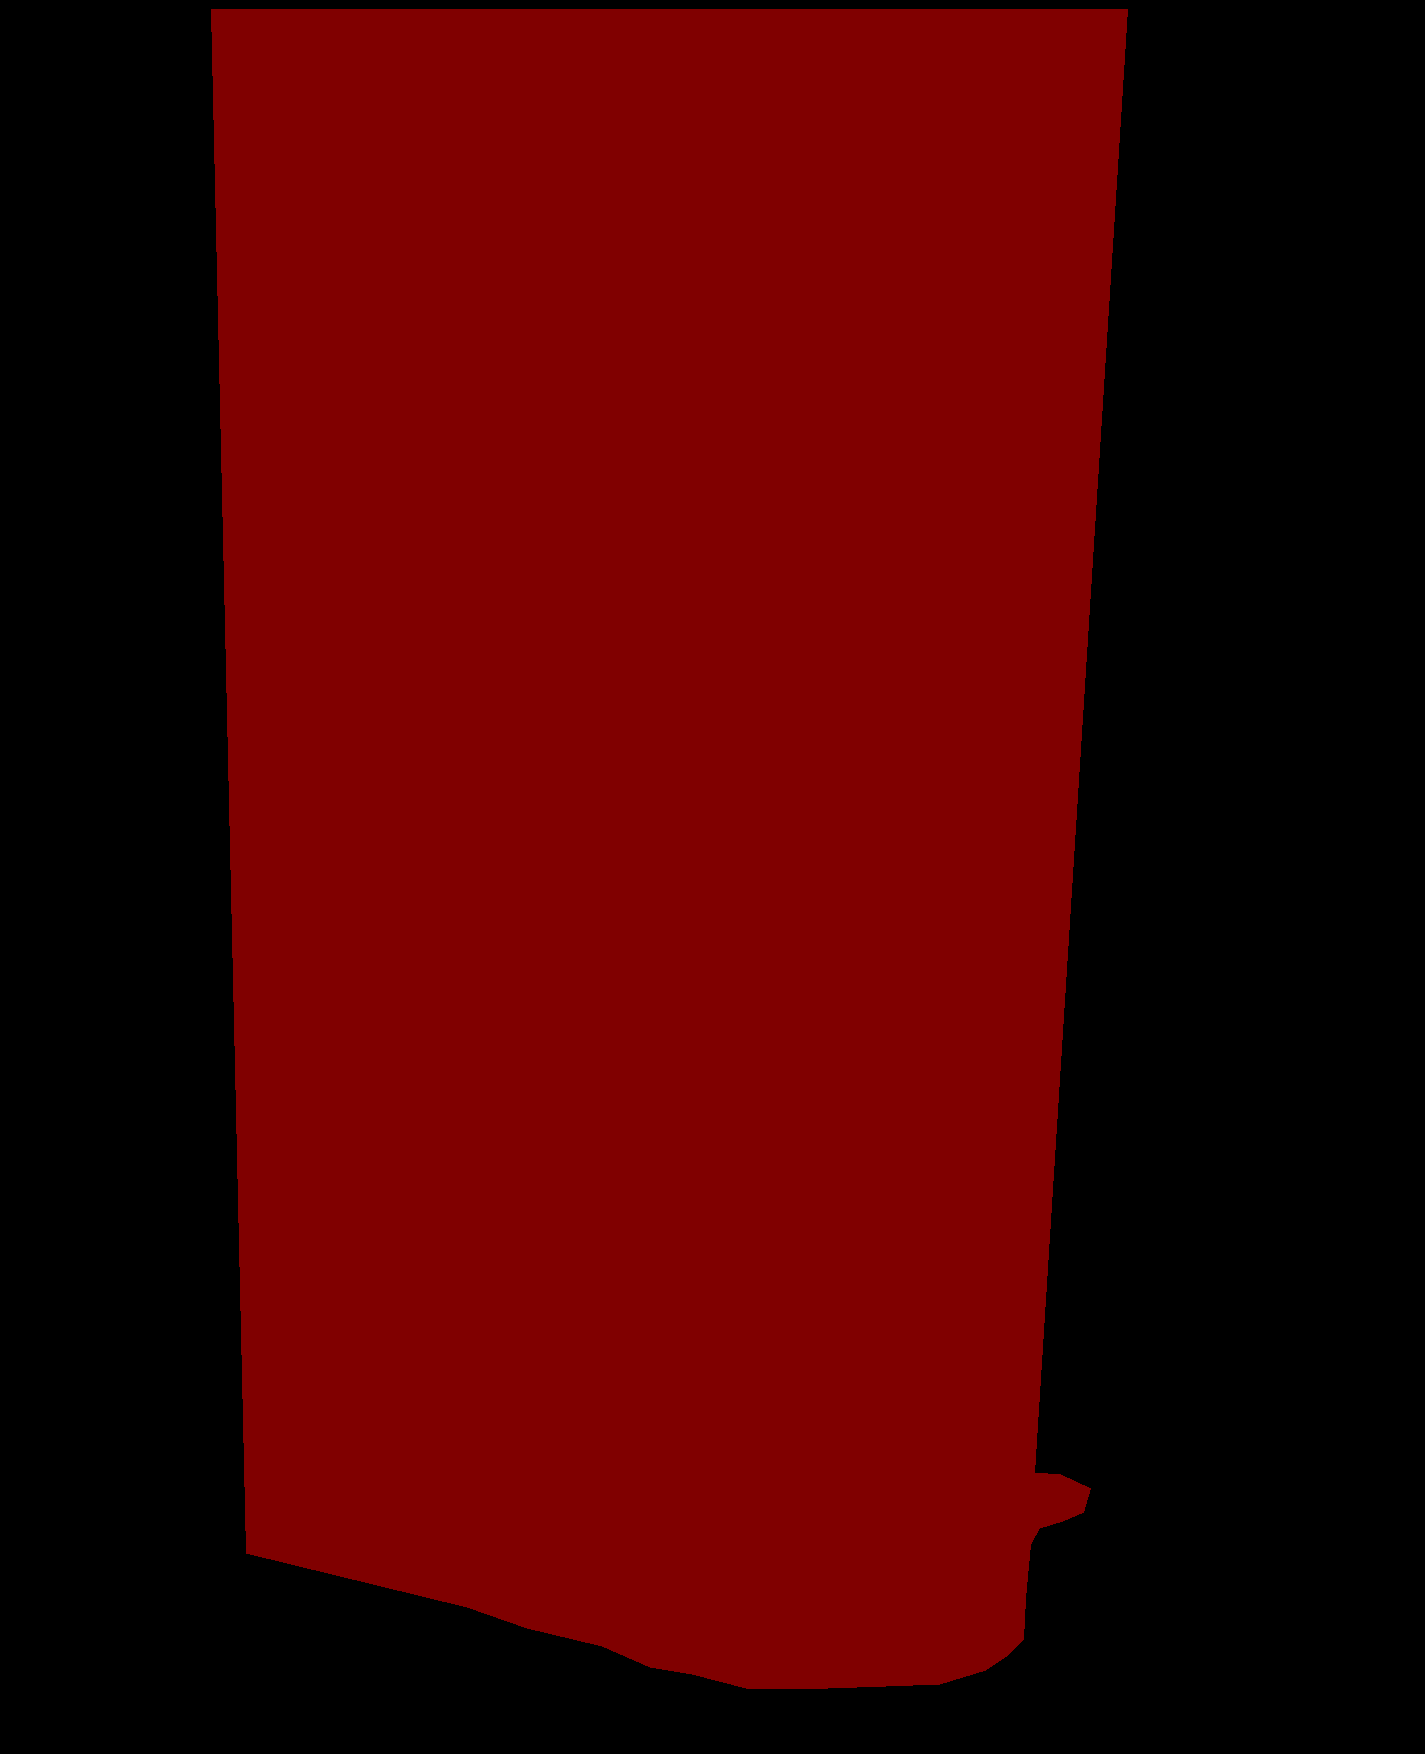sign: (211, 9, 1127, 1689)
